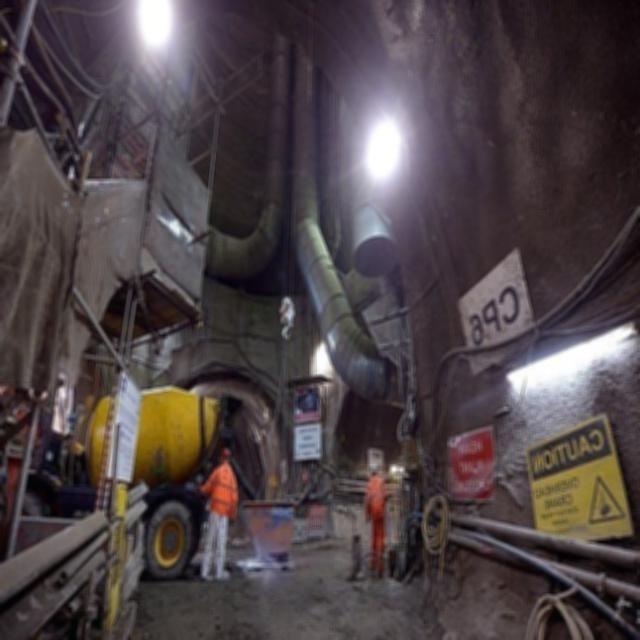Con_Chaleco: (210, 465, 234, 518)
